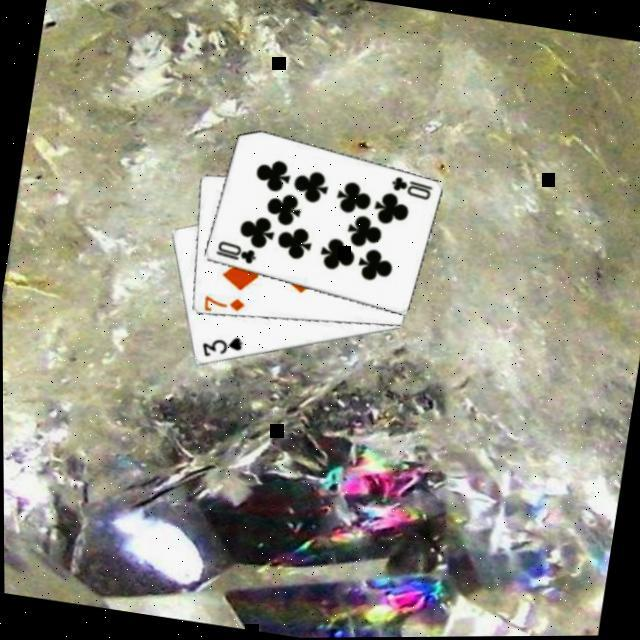10C: (388, 174, 437, 207), (212, 240, 261, 270)
3S: (198, 332, 247, 368)
7D: (200, 293, 250, 320)
